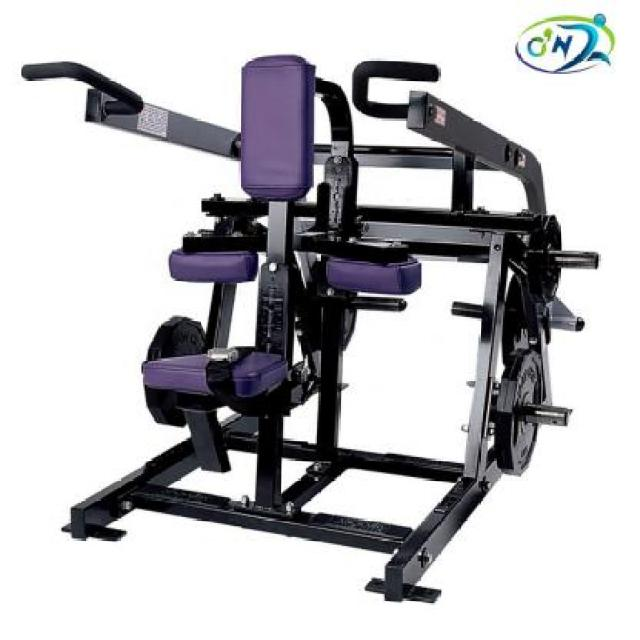seated dip machine: (23, 56, 511, 606)
